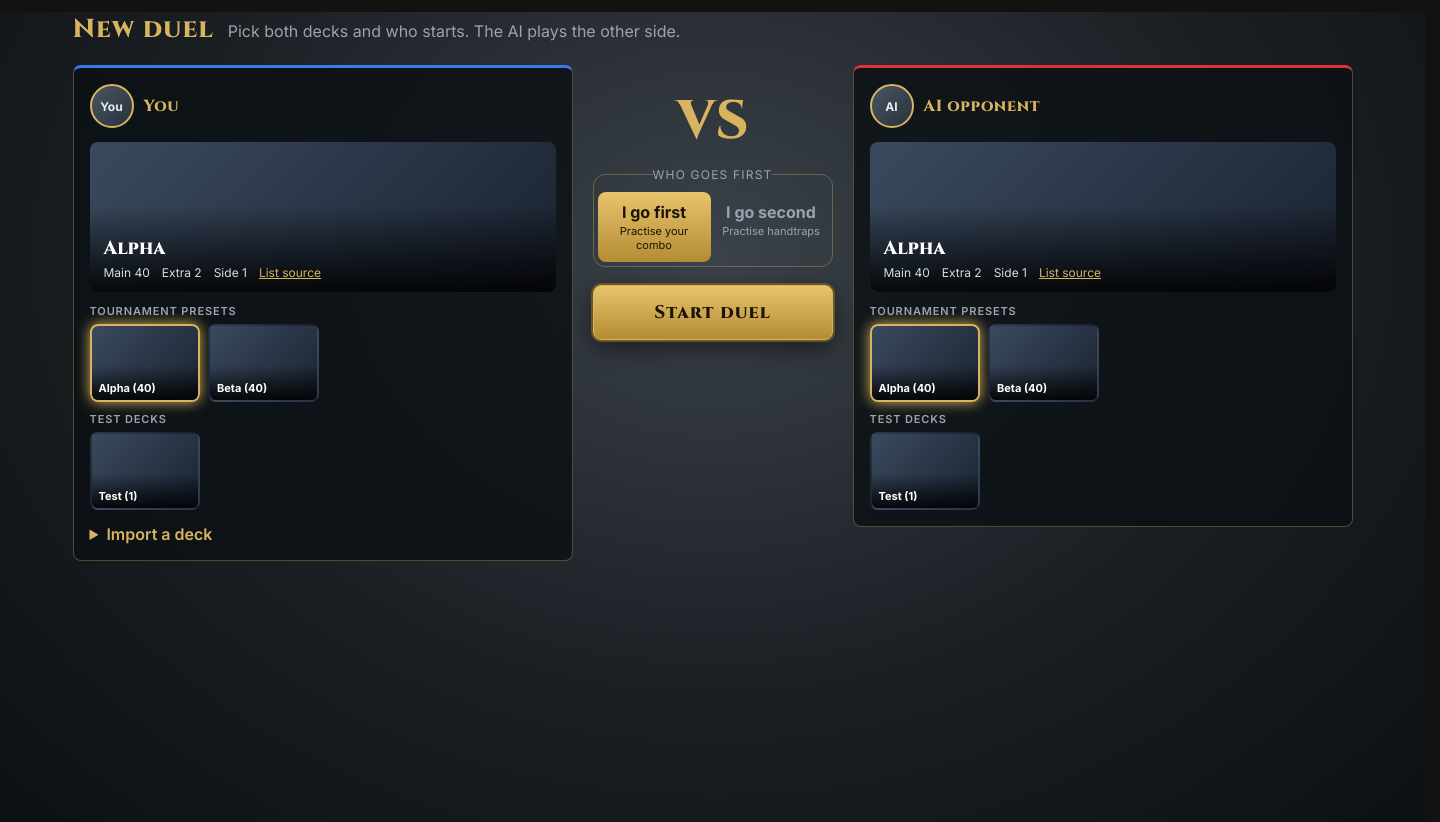
DuelSetup › warns about decks with problems but still lets you start
The width and height of the screenshot is (1440, 822).
Click the radio button labelled "Test (1)" below "AI opponent" at (925, 471), box [870,432,980,510]
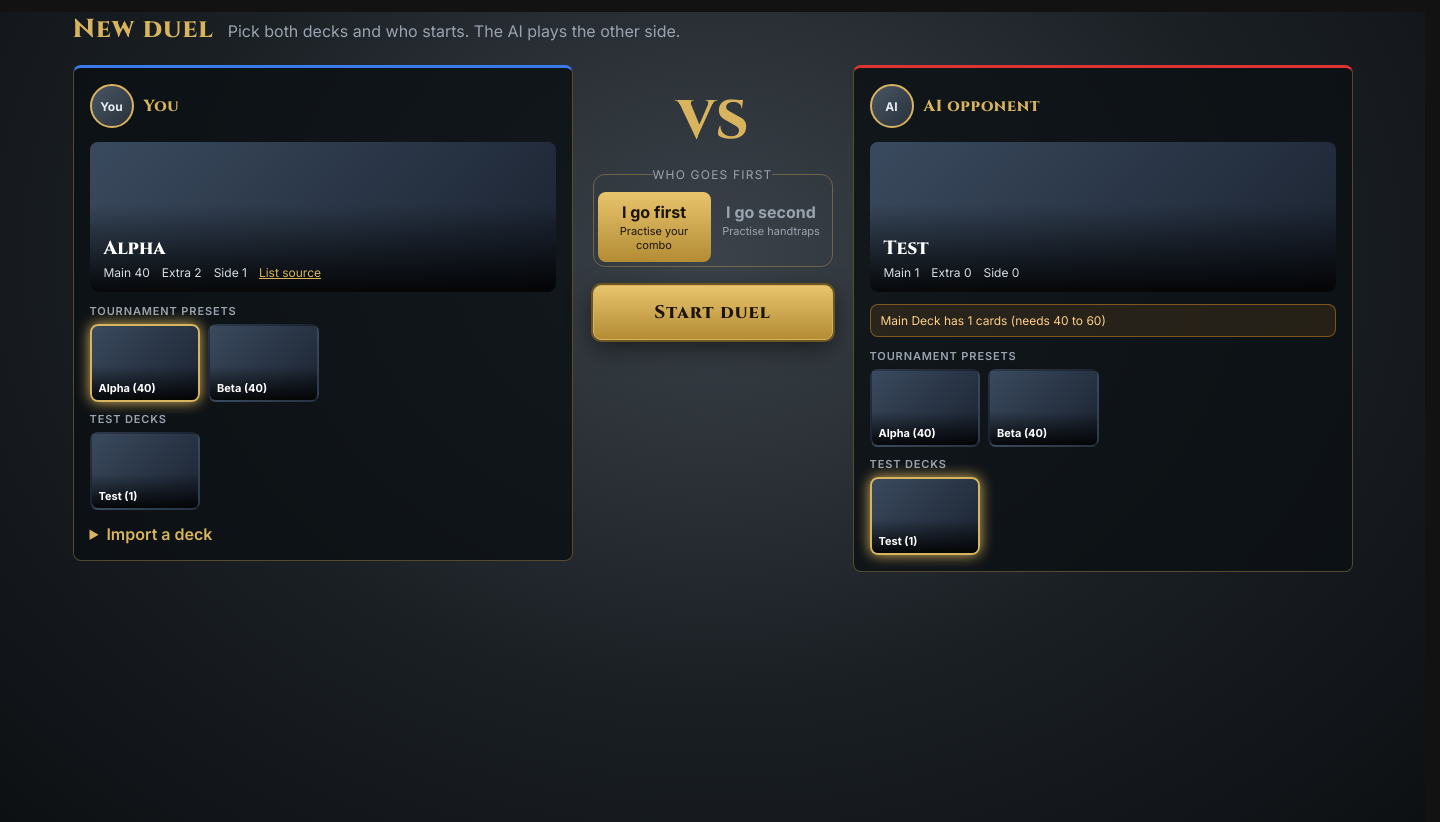
expect the button "Start duel" is enabled: met, box [592,285,832,340]
expect the text "Main Deck has 1 cards (needs 40 to 60)" is shown: met, box [870,304,1336,337]
